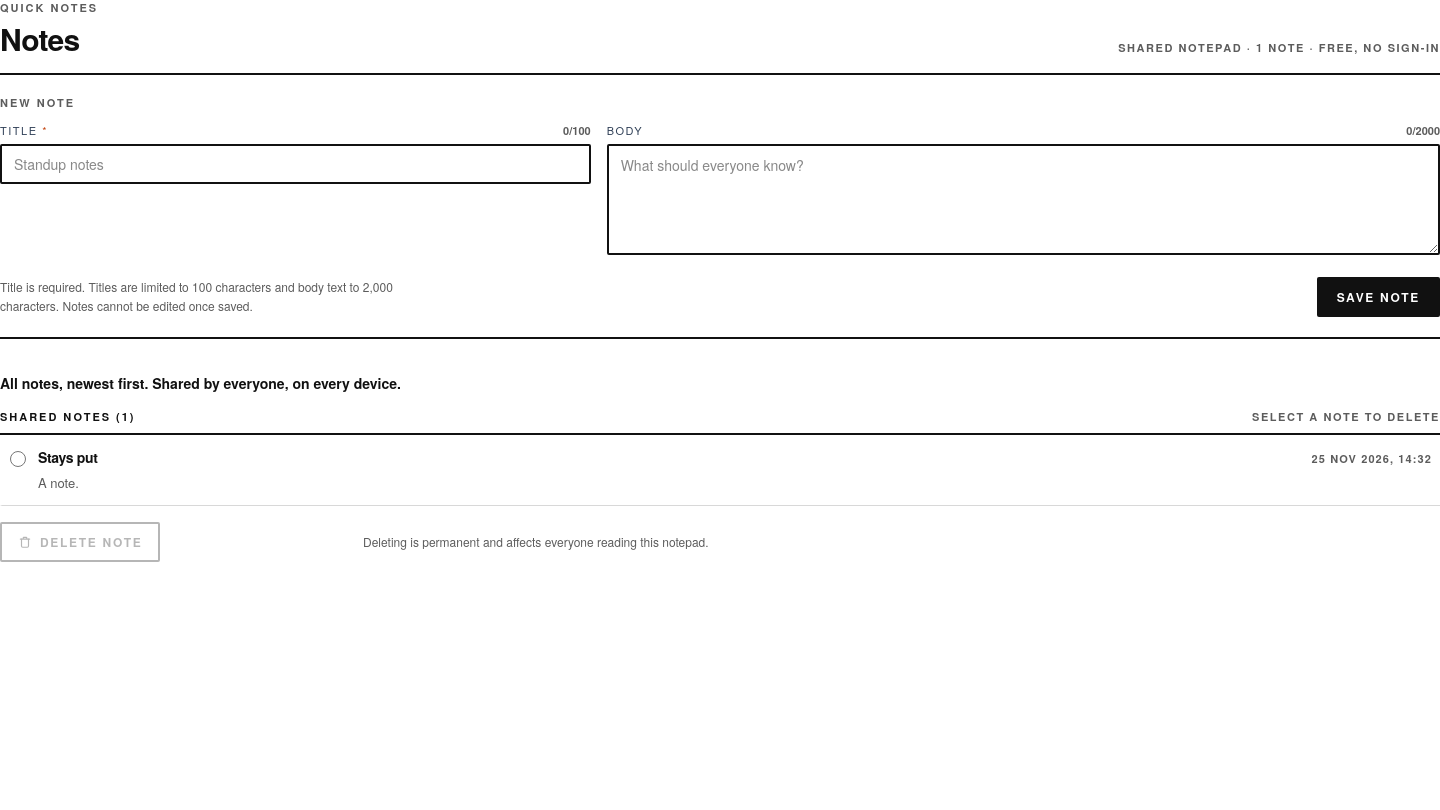
Test: Notes screen › [AC-011] keeps the note in the list when the deletion is cancelled
The image size is (1440, 810).
Click the radio button labelled "Stays put" at (18, 459), box [10,451,26,467]
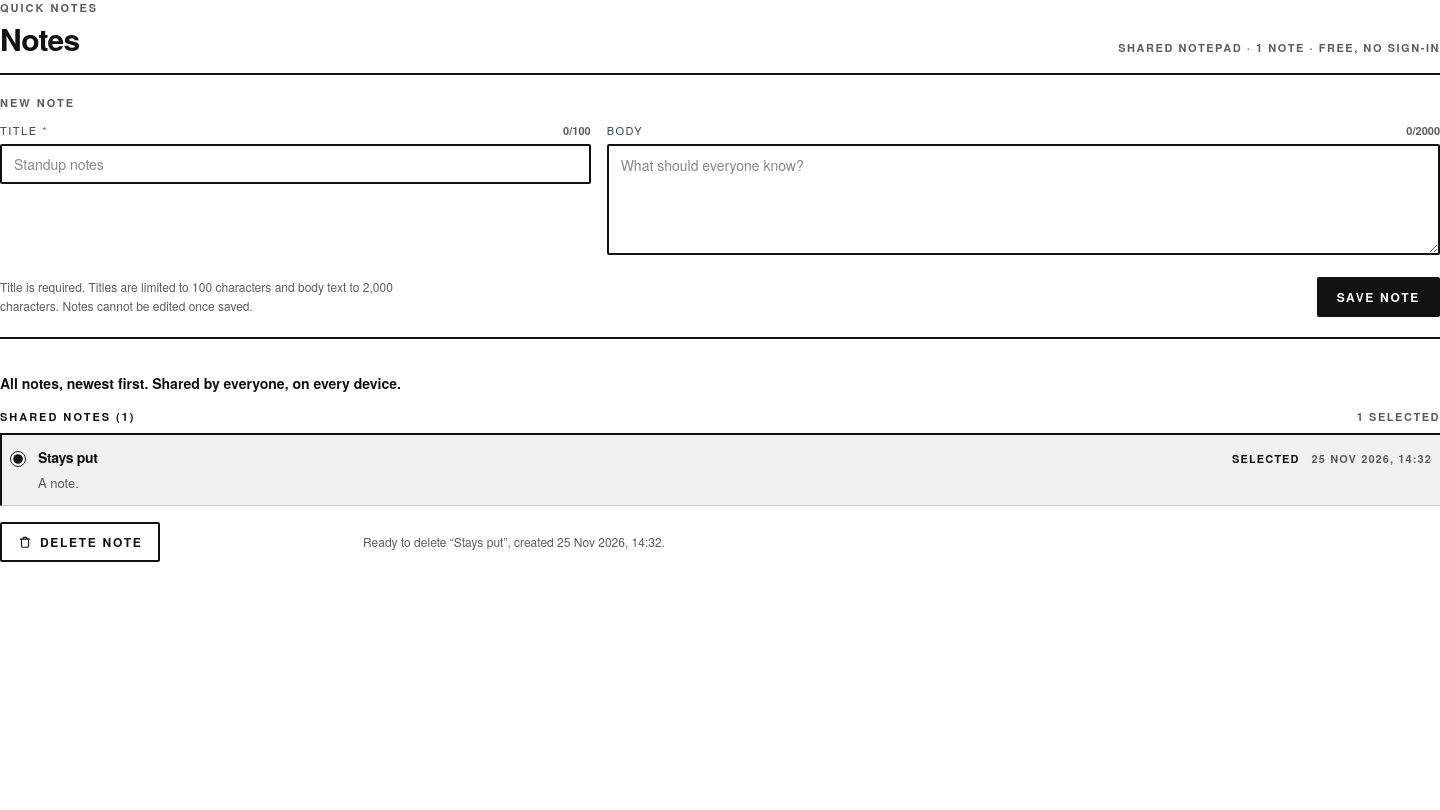
Click the button with test id "delete-note-btn" at (80, 542), box [0,522,160,562]
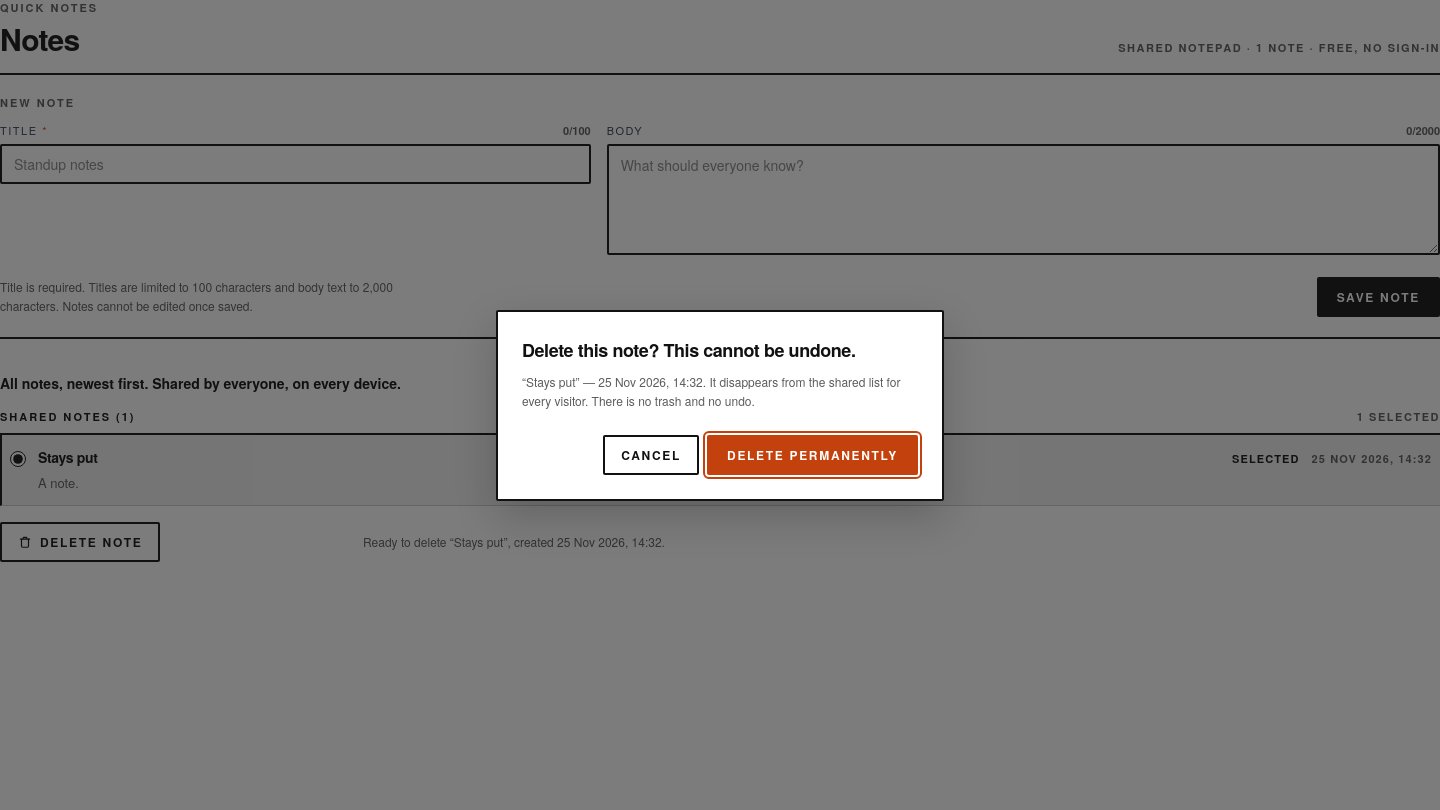
Expected: the element with test id "delete-this-note-this-cannot-be-un-modal" is shown
Click the button "Cancel" at (651, 454), box [603,434,699,474]
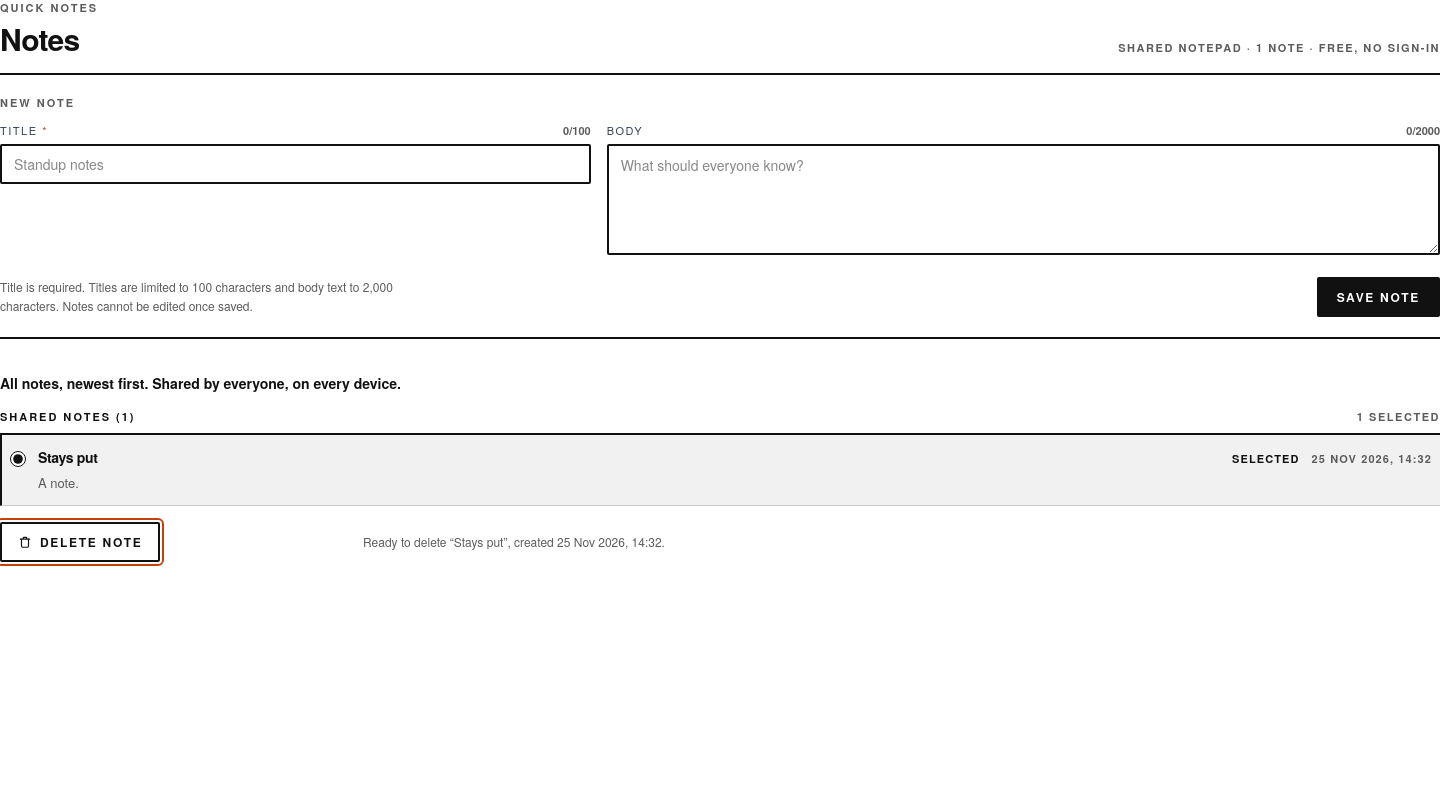
Expected: the list with test id "shared-notes-3-list" shows "Stays put", [38,447,98,467]
Expected: the element with test id "delete-this-note-this-cannot-be-un-modal" is gone
